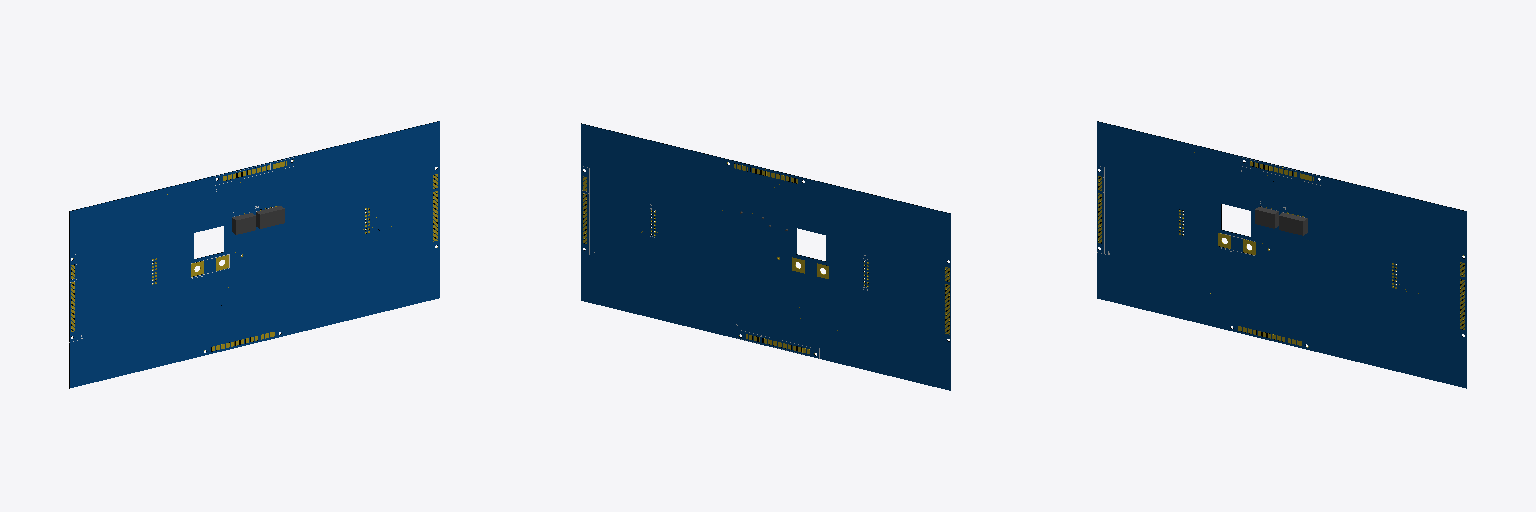
File: Slave.pdf.obj
The picture shows the model from 3 angles: view 1: azimuth 30°, elevation 25°; view 2: azimuth 150°, elevation 25°; view 3: azimuth 330°, elevation 25°; orthographic projection.
Visible parts, largest first — view 1: Solder_Top; view 2: Solder_Bottom; view 3: Solder_Top.
Part boxes in pixels (left/top/right/bottom): Solder_Top: left=70, top=121, right=439, bottom=387; Solder_Bottom: left=581, top=124, right=950, bottom=390; Solder_Top: left=1097, top=121, right=1466, bottom=388.
Size of the model in its own units: 29.5 by 13.45 by 0.752.